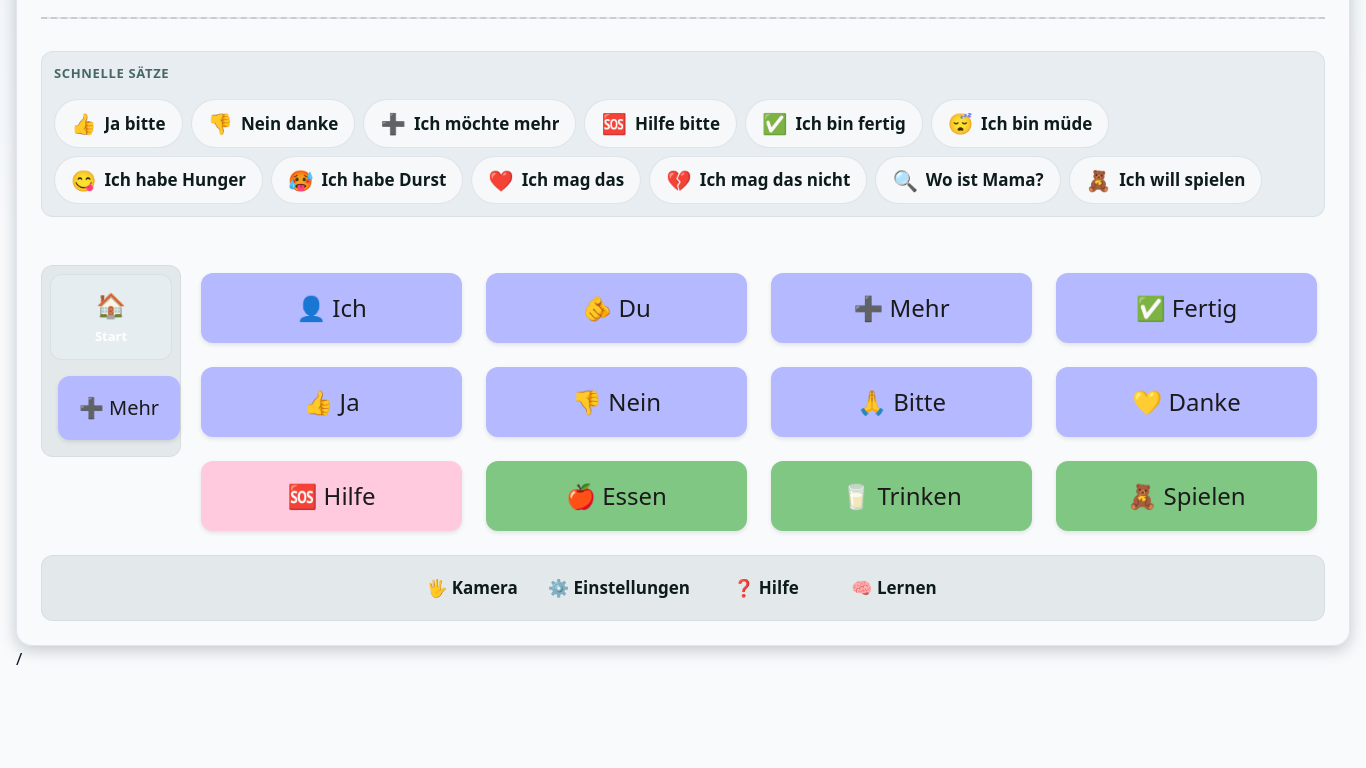
Scenario: MetacomBoard › adds tapped symbols to the sentence composer
(page scrolled)
Click the button "👍 Ja".
click(332, 402)  # box [201,367,462,437]
(page scrolled)
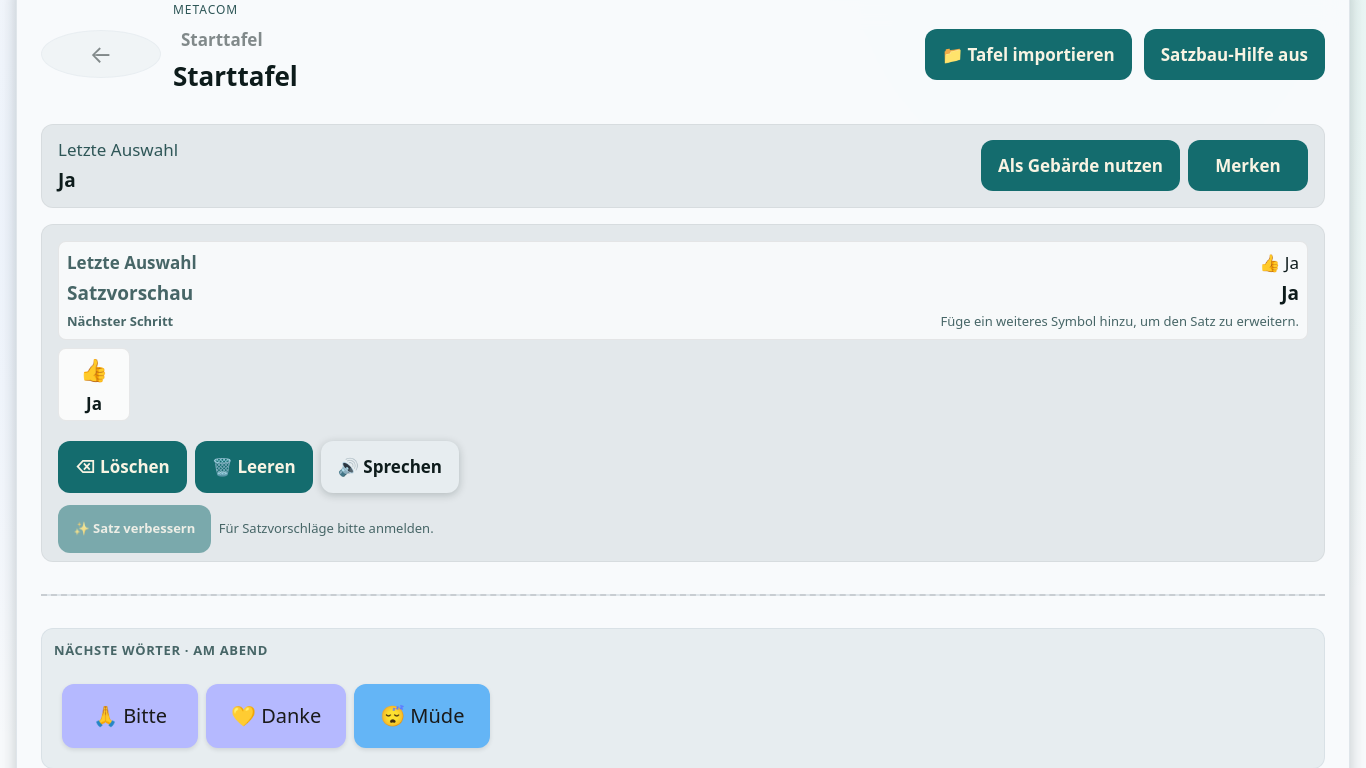
Check: the element named "Satzkomponist" is shown, box [41,224,1325,562]
Check: the number of elements with class "sentence-strip-item" is 1, box [58,348,130,421]
Check: the element with class "sentence-strip-item" shows "Ja", box [86,392,102,415]
